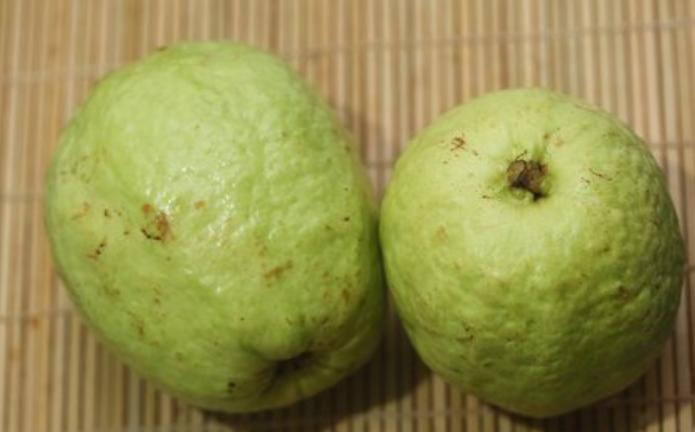guava_B: (42, 40, 389, 416), (378, 88, 687, 419)
